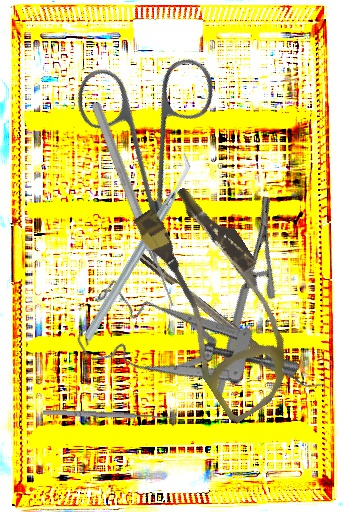Cannula: (110, 176, 325, 426)
Chopper: (32, 153, 242, 342), (135, 242, 324, 400)
Hook Surgical: (42, 403, 178, 422)
Iris Scissors: (20, 12, 280, 272)
Needle Holder: (155, 194, 328, 402)
Pusher: (88, 100, 180, 310)
Speculum: (65, 245, 302, 461)
